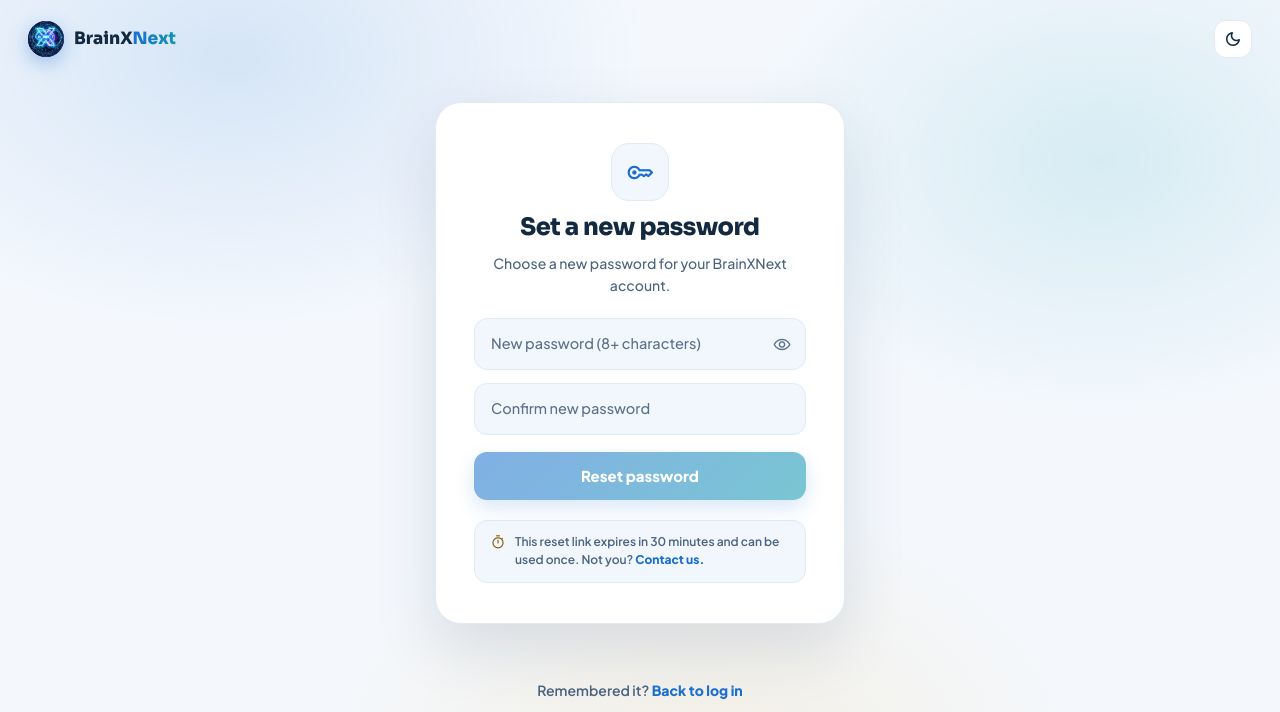
Test: <ResetPassword /> › switches to the invalid-link state when the server rejects the token
Type "newpassword1" into the password field labelled "New password" at (640, 344), box [474, 318, 806, 370]
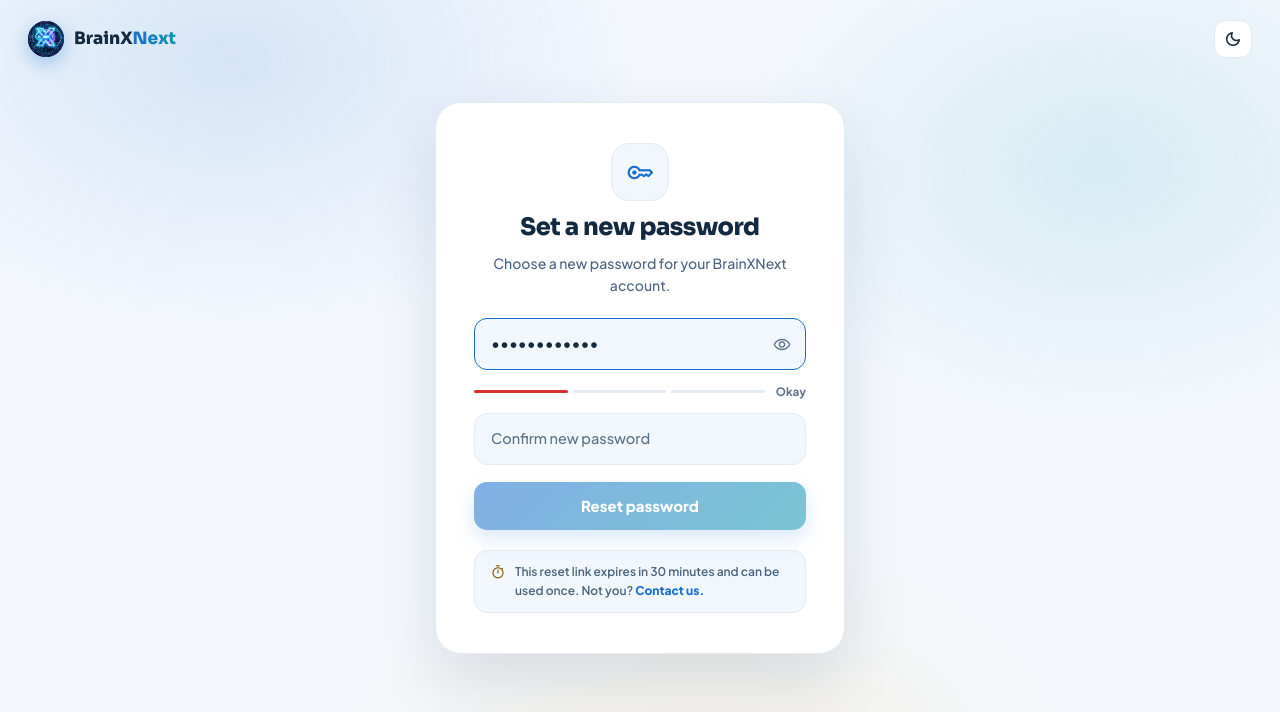
Type "newpassword1" into the password field labelled "Confirm new password" at (640, 439), box [474, 413, 806, 465]
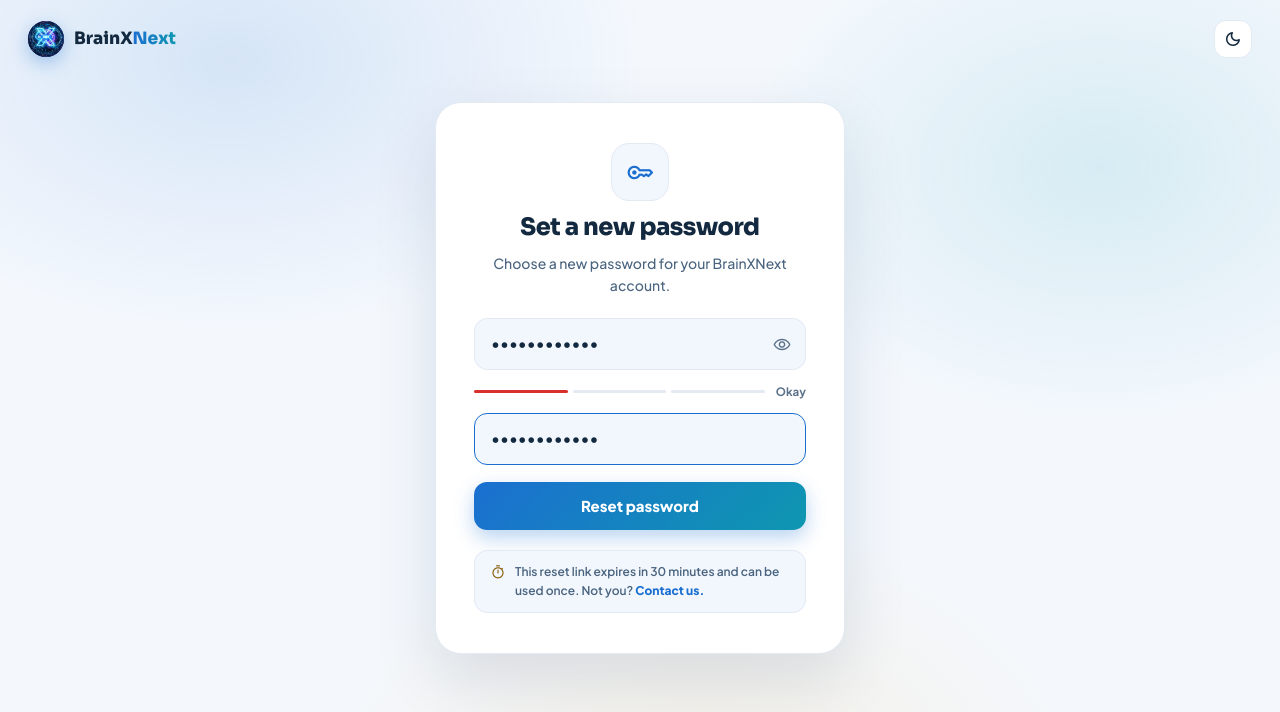
Click the button "Reset password" at (640, 506), box [474, 482, 806, 530]
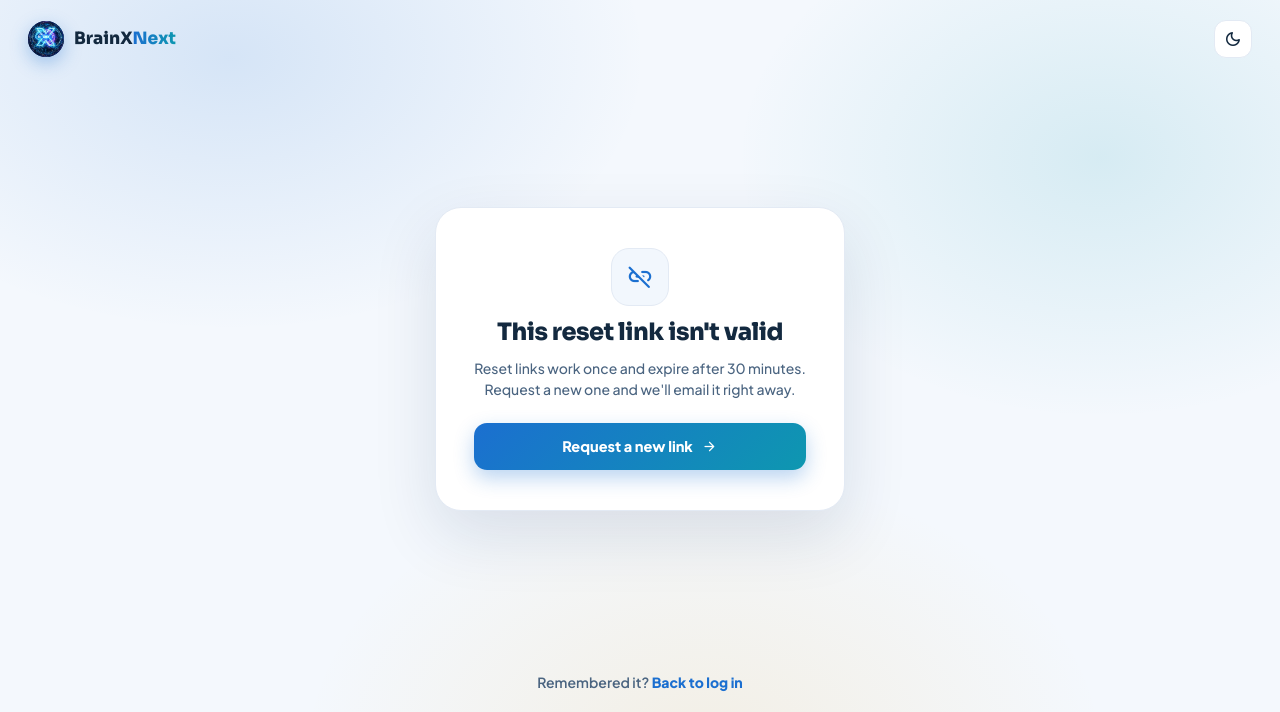
Expected: the heading "This reset link isn't valid" is shown, [497, 316, 783, 348]
